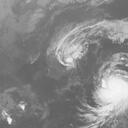cyclone: (92, 61, 127, 116), (47, 33, 90, 69)
